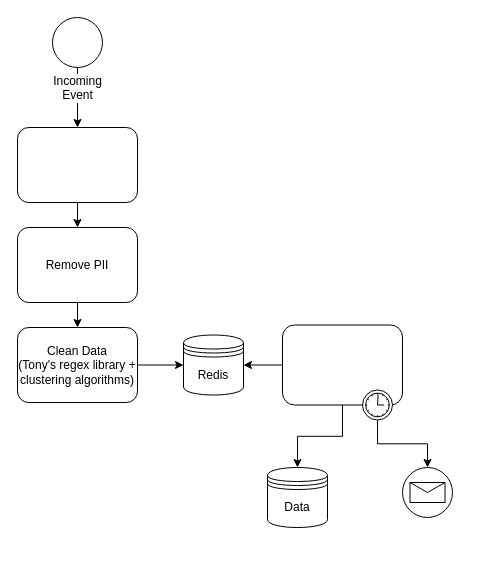
Some shapes in this 487 by 571 pixel diagram are drawn without their labels. The shapes that lost their labels are listed below. From the top down, each one's box as (x1, y1, x2, y2) in pixels, then its label:
(16, 126, 138, 202): Schema validation
(282, 324, 402, 405): Windowing (Generate Summary Events)
(402, 466, 452, 518): Publish to topic for evaluation
